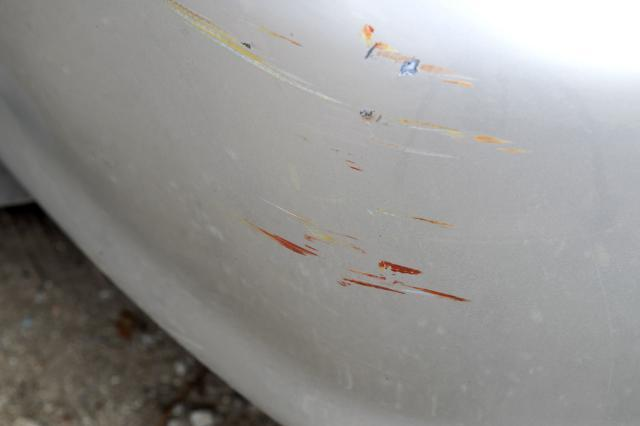scratch: (165, 0, 542, 309)
